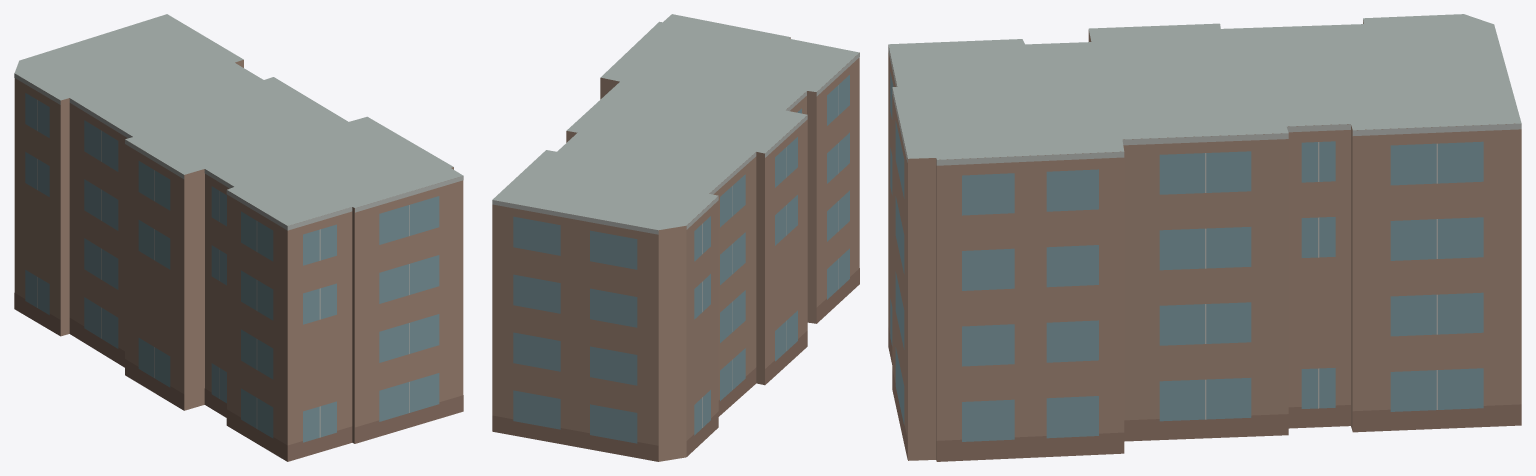
Rendered from survey-upis-32630580.glb.
3 views of the same model, side by side, from view 1: azimuth 30°, elevation 25°; view 2: azimuth 150°, elevation 25°; view 3: azimuth 270°, elevation 25° (orthographic). The views are drawn at different scales.
Parts seen in each view (by area): view 1: survey-upis-32630580.tmp; view 2: survey-upis-32630580.tmp; view 3: survey-upis-32630580.tmp.
Boxes of the visible parts, <box> form: survey-upis-32630580.tmp: <box>14,14,463,461</box>; survey-upis-32630580.tmp: <box>492,14,859,461</box>; survey-upis-32630580.tmp: <box>888,14,1521,461</box>.
Size of the model in its own units: 12.96 by 12.5 by 23.77.
